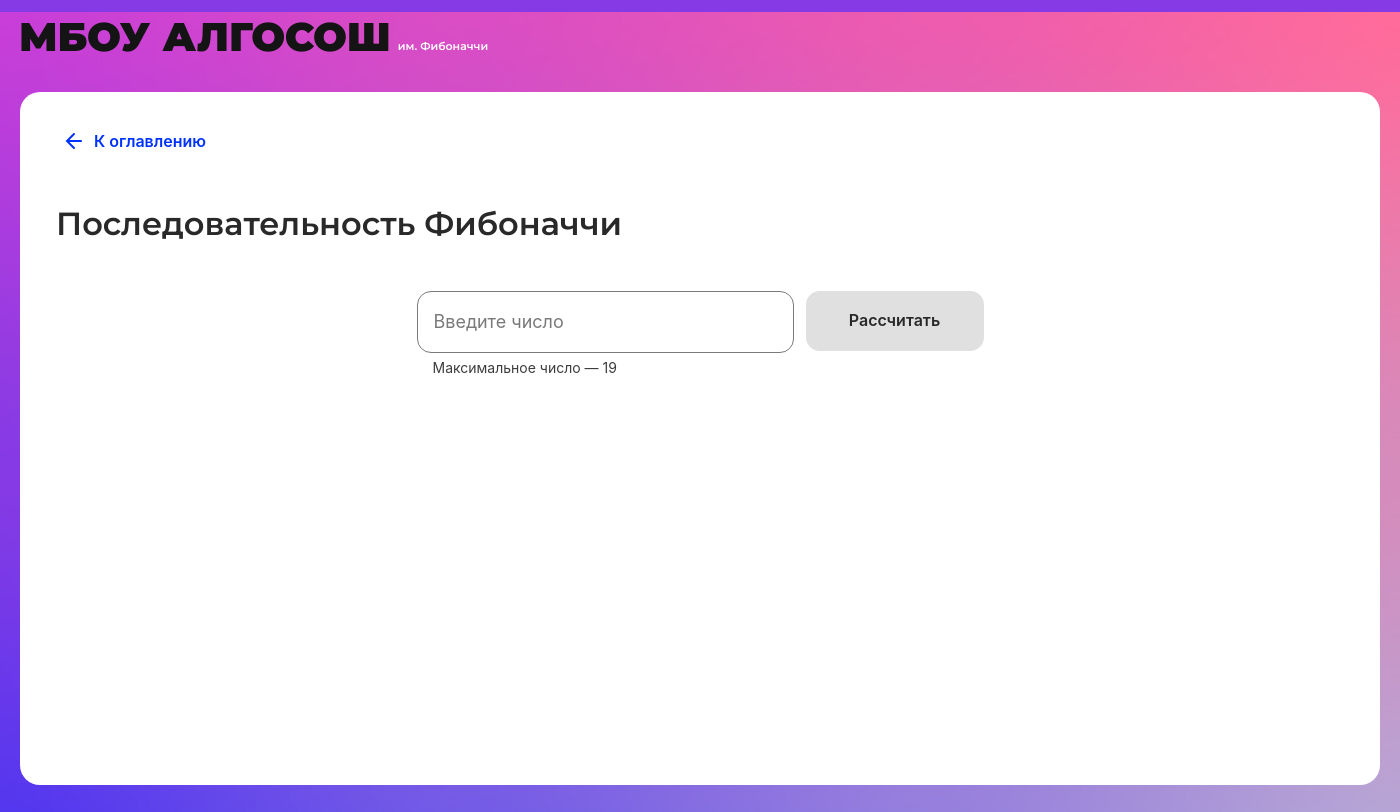
Test case: fibonacci page › button should be switch disabled state correctly depends on input value
The image size is (1400, 812).
Expected: the button with id "calculate-btn" is disabled, [806, 291, 984, 351]
Type "1" into the number field with placeholder "Введите число" at (606, 322), box [417, 291, 794, 353]
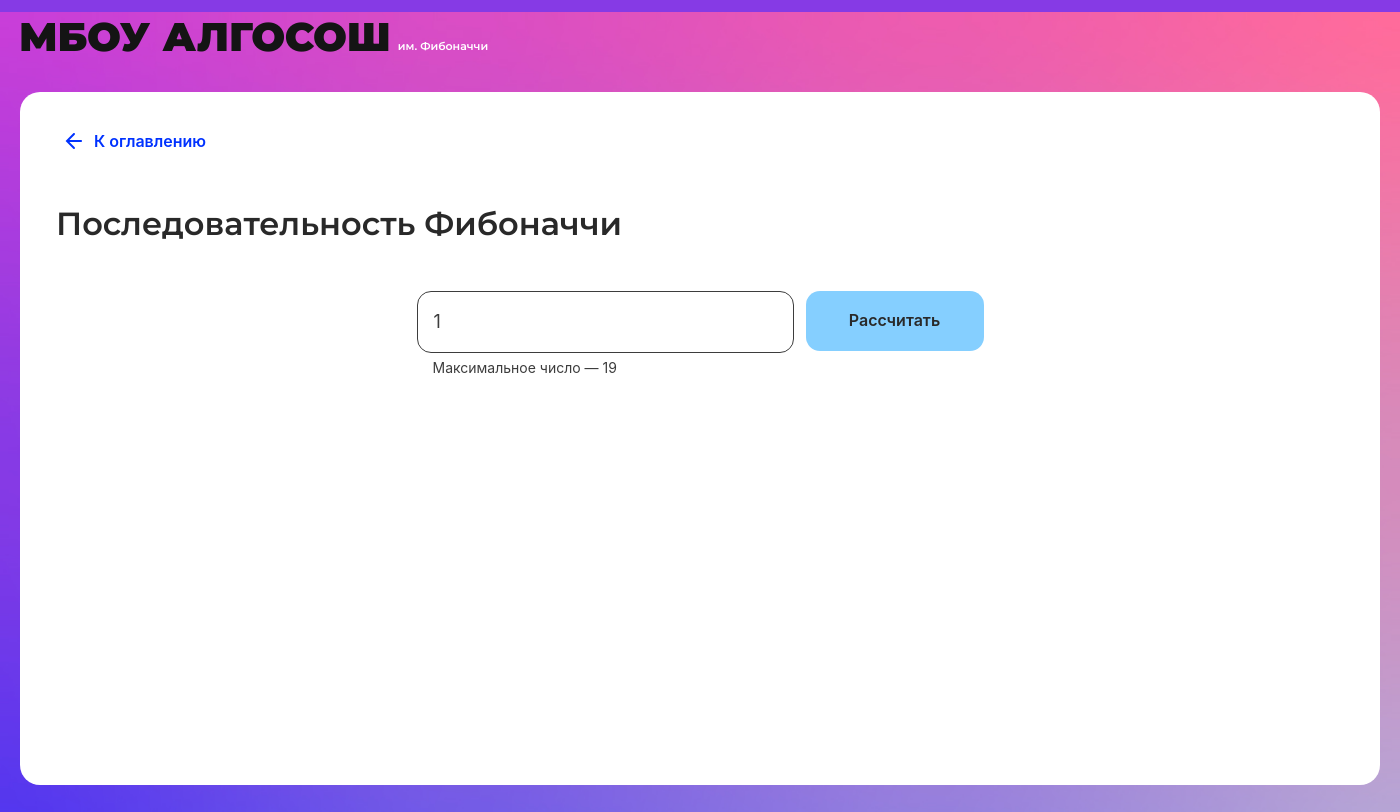
Result: the button with id "calculate-btn" is enabled at [806, 291, 984, 351]
